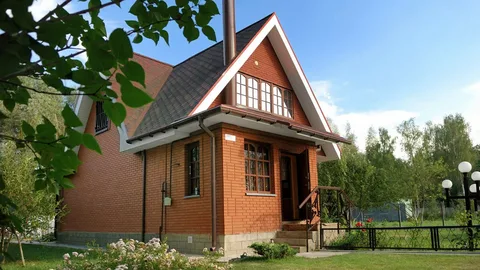private_hause: (153, 23, 338, 255)
